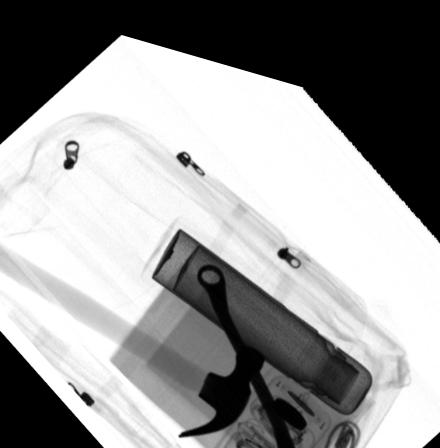Hammer: (0, 240, 267, 427)
Wrench: (195, 252, 304, 448)
